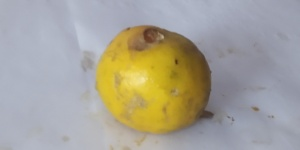BAD: (95, 25, 212, 133)
